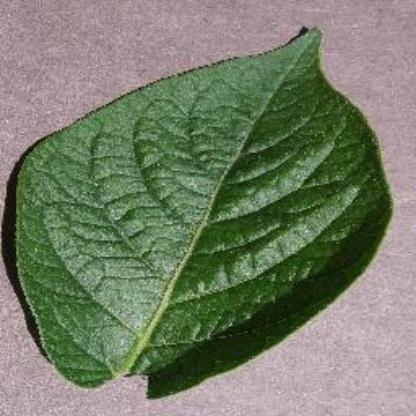Healthy-plant: (15, 24, 403, 400)
